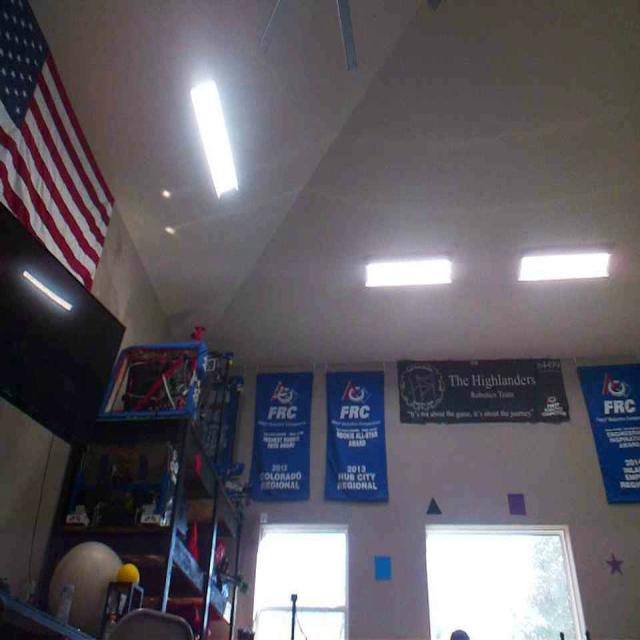square_blue: (373, 554, 391, 580)
square_purple: (505, 492, 526, 514)
star_purple: (605, 551, 622, 573)
triangle_black: (426, 497, 442, 515)
